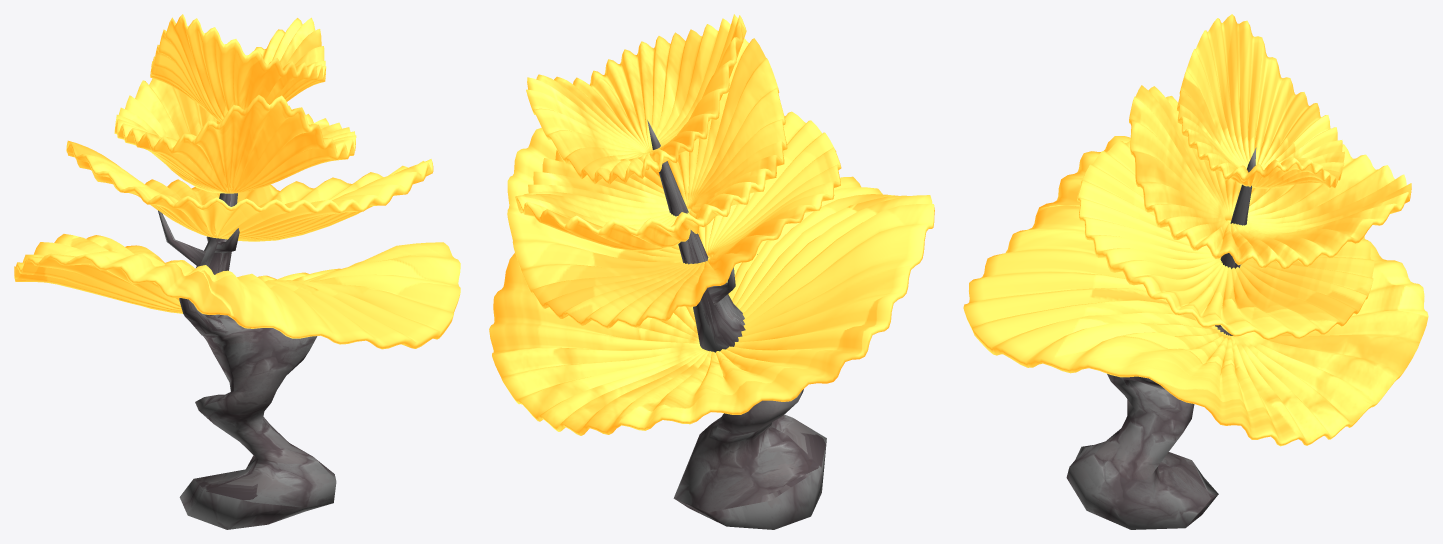
File: Plant01LOD.fbx
The picture shows the model from 3 angles, left to right: view 1: azimuth 30°, elevation 25°; view 2: azimuth 150°, elevation 25°; view 3: azimuth 270°, elevation 25°; orthographic projection. The views are drawn at different scales.
Parts seen in each view (by area): view 1: Cube_LOD0; view 2: Cube_LOD0; view 3: Cube_LOD0.
Boxes of the visible parts, x1,y1,x2,y2 form: Cube_LOD0: (14,14,460,529); Cube_LOD0: (489,14,934,529); Cube_LOD0: (963,14,1428,529).
Size of what is drawn, in the model's own units: 359 by 436 by 388.
